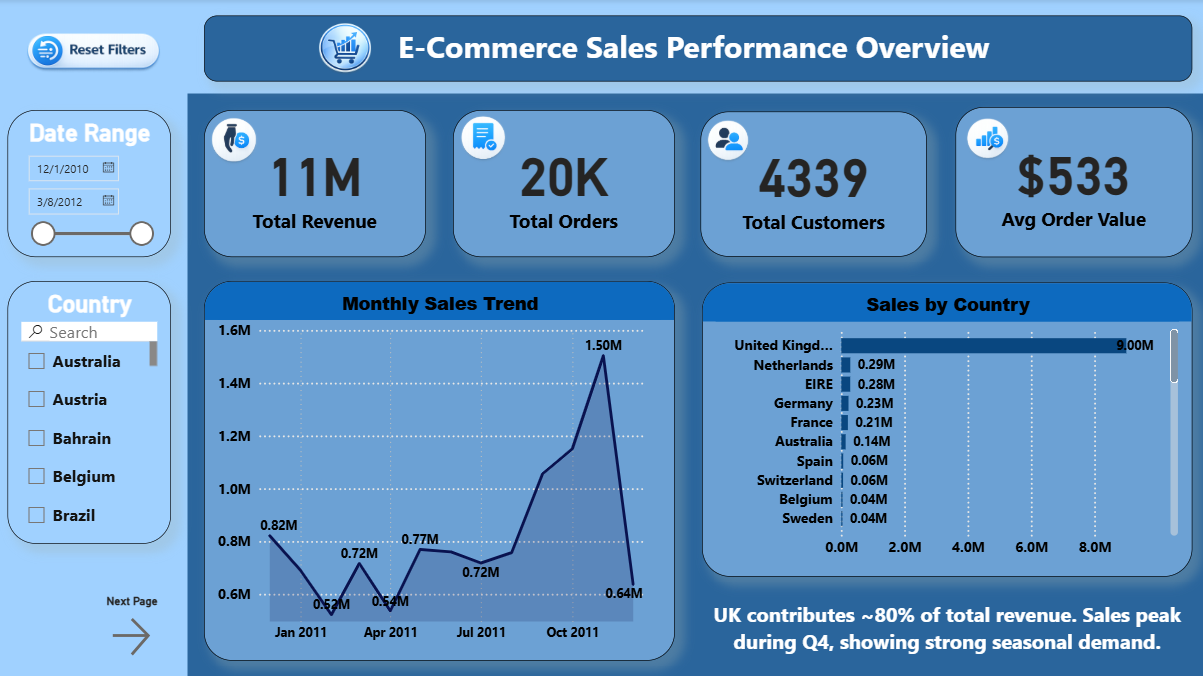

The page's visual inventory and layout, read from the dashboard file:
{"tool":"powerbi","page":{"name":"E-Commerce Sales Performance Overview","canvas":[1280,720],"ordinal":0},"visuals":[{"type":"shape","box":[202,100.2,1078.4,620.3],"z":1000},{"type":"clusteredBarChart","title":"Sales by Country","fields":{"Category":["sales.Country"],"Y":["clean_sales.Total Revenue"]},"box":[747.6,300.6,520.1,311.8],"z":2000},{"type":"lineChart","title":"Monthly Sales Trend","fields":{"Y":["clean_sales.Total Revenue"],"Category":["sales.InvoiceDate (bins)"]},"box":[219.5,299,499.5,402.4],"z":3000},{"type":"card","fields":{"Values":["clean_sales.Total Customers"]},"box":[746,119.3,240.2,154.3],"z":4000},{"type":"card","fields":{"Values":["clean_sales.Total Orders"]},"box":[483.5,117.7,235.4,155.9],"z":6000},{"type":"card","fields":{"Values":["clean_sales.Total Revenue"]},"box":[219.5,117.7,235.4,155.9],"z":7000},{"type":"card","fields":{"Values":["clean_sales.Average Order Value"]},"box":[1016.4,114.5,251.3,159.1],"z":8000},{"type":"slicer","title":"Country","fields":{"Values":["clean_sales.Country"]},"box":[11.1,299,173.4,278.4],"z":9000},{"type":"textbox","box":[219.5,17.5,1048.2,70],"z":10000},{"type":"image","box":[209.3,102.2,68.4,101.8],"z":11000},{"type":"image","box":[482.9,107,58.9,87.5],"z":12000},{"type":"image","box":[745.3,110.1,54.1,81.1],"z":13000},{"type":"image","box":[1016.4,105,60.4,92.3],"z":14000},{"type":"image","box":[0,0,202,119.3],"z":15000},{"type":"textbox","box":[747.6,631.5,520.1,89.1],"z":16000},{"type":"image","box":[297.4,4.8,143.2,100.2],"z":17000},{"type":"slicer","title":"Date Range","fields":{"Values":["DateTable.Date"]},"box":[11.1,117.7,173.4,155.9],"z":18000},{"type":"actionButton","title":"Next Page","box":[116.1,631.5,68.4,70],"z":19000}]}

Visuals, with their boxes in screenshot pixels (x1, y1, x2, y2), scaled from the page's 1280x720 canvas onto the 1203x676 screenshot:
shape: <box>190,94,1202,675</box>
"Sales by Country" clusteredBarChart: <box>703,282,1191,575</box>
"Monthly Sales Trend" lineChart: <box>206,281,676,659</box>
card - clean_sales.Total Customers: <box>701,112,927,257</box>
card - clean_sales.Total Orders: <box>454,111,676,257</box>
card - clean_sales.Total Revenue: <box>206,111,428,257</box>
card - clean_sales.Average Order Value: <box>955,108,1191,257</box>
"Country" slicer: <box>10,281,173,542</box>
textbox: <box>206,16,1191,82</box>
image: <box>197,96,261,192</box>
image: <box>454,100,509,183</box>
image: <box>700,103,751,180</box>
image: <box>955,99,1012,185</box>
image: <box>0,0,190,112</box>
textbox: <box>703,593,1191,675</box>
image: <box>280,5,414,99</box>
"Date Range" slicer: <box>10,111,173,257</box>
"Next Page" actionButton: <box>109,593,173,659</box>
